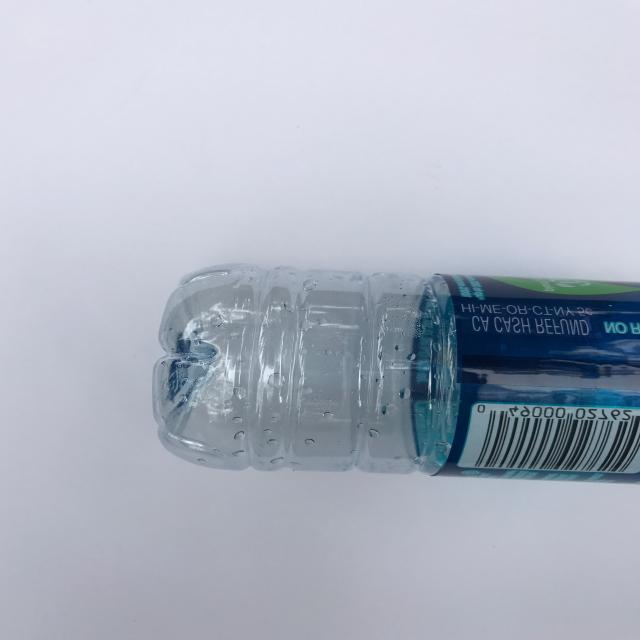plastic: (152, 262, 640, 483)
